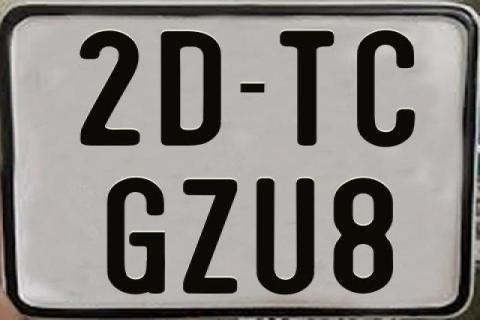0: (78, 30, 144, 148), (332, 178, 392, 298)
C: (357, 28, 418, 149)
D: (160, 29, 220, 145)
G: (105, 175, 164, 295)
T: (279, 31, 336, 149)
U: (253, 178, 314, 296)
Z: (183, 178, 240, 292)
